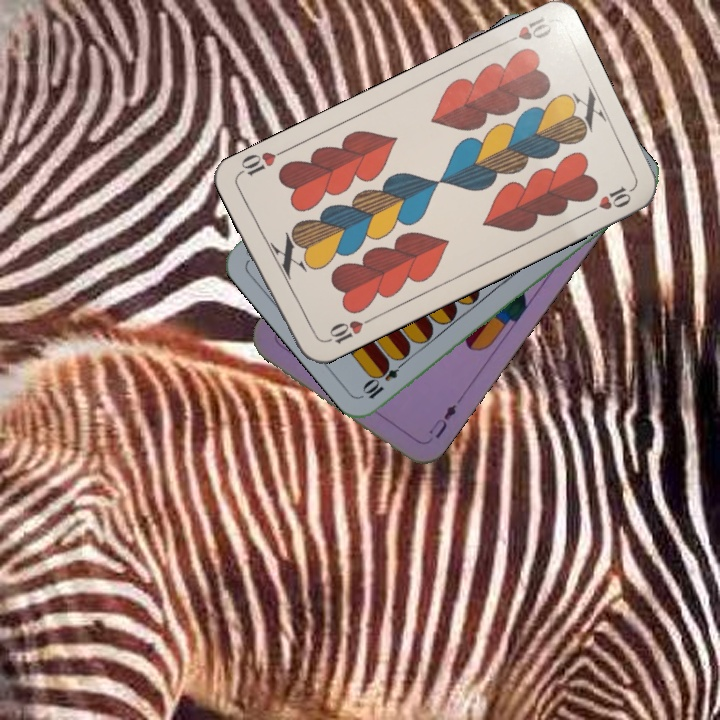E10: (360, 354, 410, 402)
EU: (424, 400, 459, 441)
H10: (497, 12, 556, 48), (319, 313, 374, 347)
